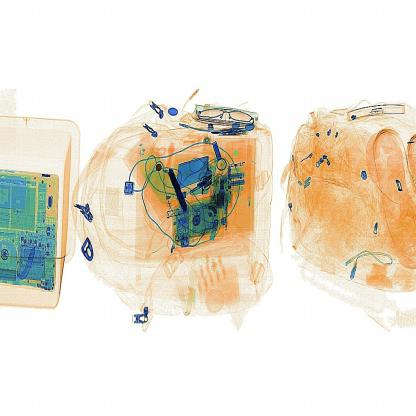knife: (161, 161, 193, 220)
